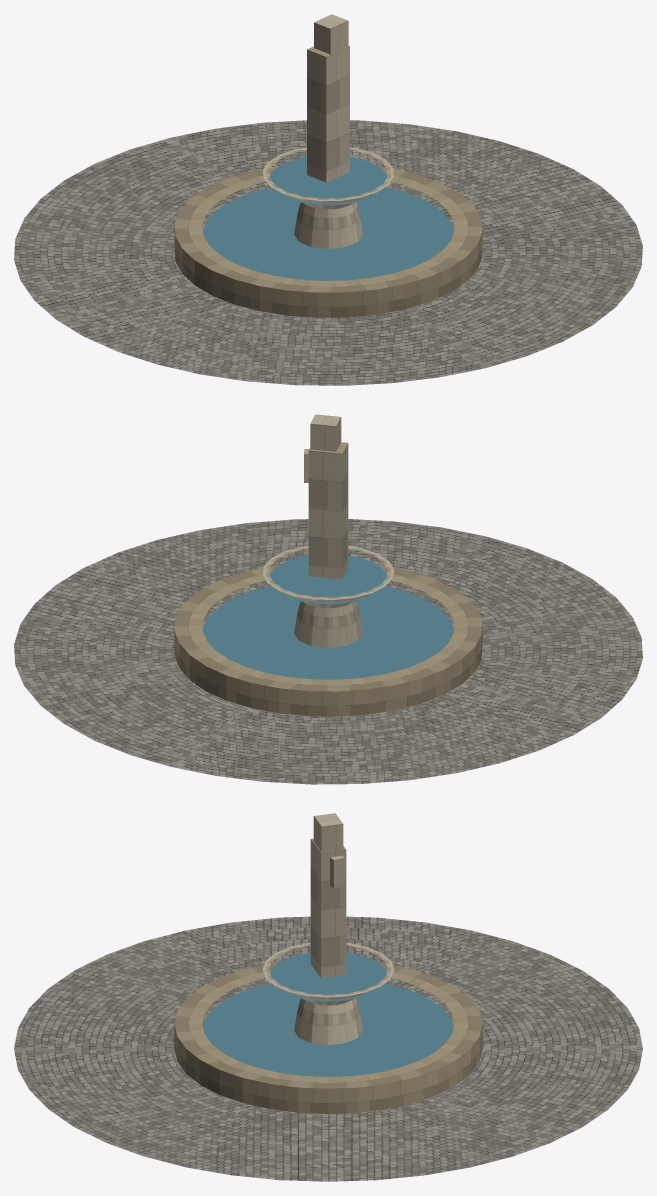
Rendered from k93_schmiede.glb.
3 views of the same model, one above another, from view 1: azimuth 30°, elevation 25°; view 2: azimuth 150°, elevation 25°; view 3: azimuth 270°, elevation 25° (orthographic).
Bounding box in the file's own units: 10 × 4.1 × 10.
Materials: 3 (3 with a texture image).
